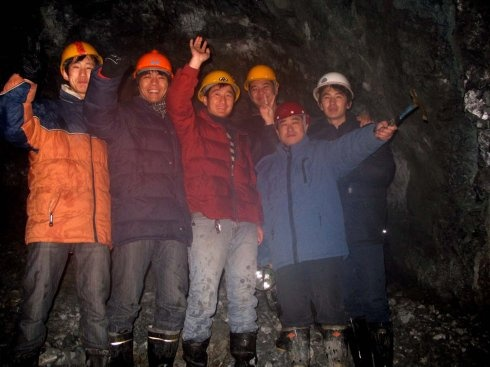red: (134, 51, 173, 103), (275, 101, 310, 144)
white: (314, 71, 353, 121)
yellow: (60, 41, 102, 92), (199, 69, 238, 116), (245, 62, 277, 106)
